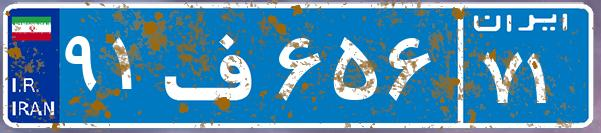1: (110, 28, 158, 105), (525, 38, 570, 115)
5: (330, 28, 385, 110)
6: (385, 28, 445, 110), (273, 28, 330, 110)
7: (475, 38, 525, 113)
9: (57, 26, 110, 107)
ف: (158, 15, 273, 115)
